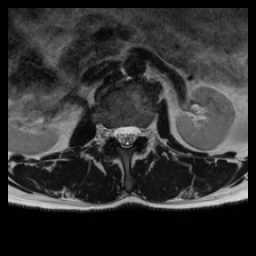CCS_normal: (122, 118, 130, 154)
LFS_normal: (139, 118, 147, 144)
LLS_normal: (130, 118, 139, 146)
RFS_normal: (106, 118, 114, 145)
RLS_normal: (114, 118, 122, 148)
